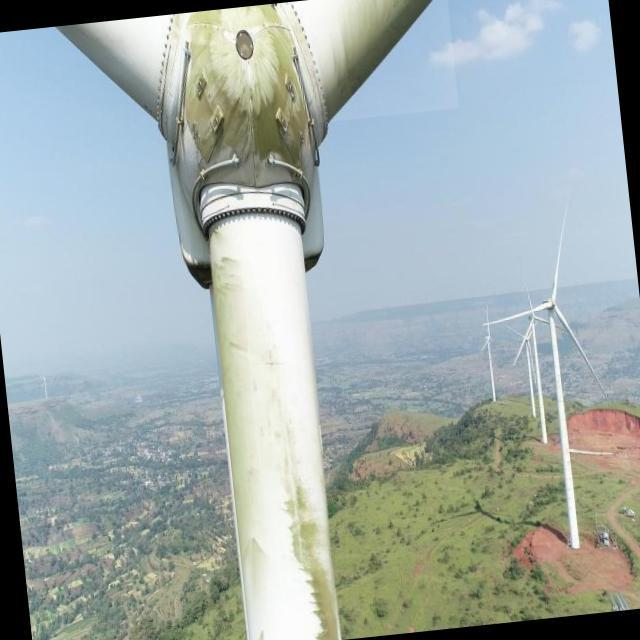Dirt: (211, 221, 342, 640)
